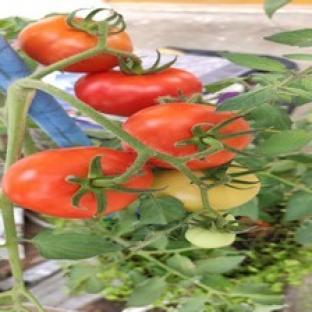Tomato: (2, 147, 135, 218), (123, 104, 252, 169), (74, 67, 201, 116), (19, 16, 98, 65), (152, 170, 203, 211), (186, 226, 235, 249), (240, 216, 272, 236)
